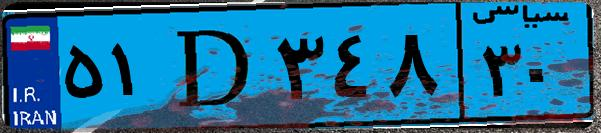0: (525, 38, 570, 115)
1: (110, 28, 158, 98)
3: (270, 28, 330, 110), (475, 38, 525, 113)
4: (330, 28, 385, 110)
5: (57, 26, 110, 100)
8: (385, 28, 445, 110)
D: (158, 12, 270, 120)
